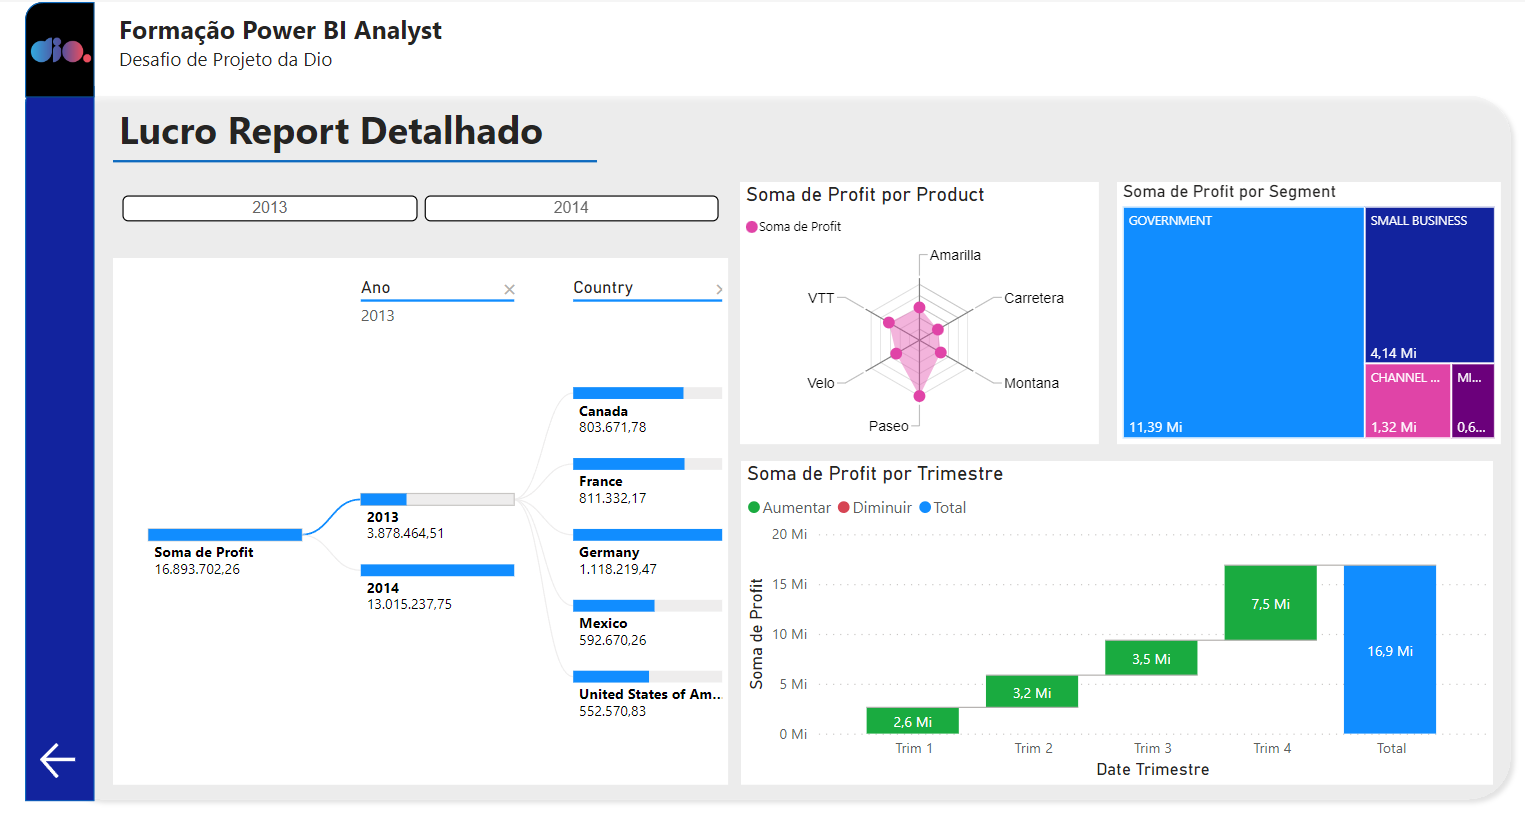

What the dashboard file says about the page in this screenshot:
{"tool":"powerbi","page":{"name":"Pagina 2","canvas":[1280,720],"ordinal":1},"visuals":[{"type":"textbox","box":[74.3,0,981.5,70.7],"z":0},{"type":"shape","box":[74.6,114.7,410.1,41.4],"z":0,"group":"g1"},{"type":"textbox","box":[74.6,80.5,579.1,54],"z":1000,"group":"g1"},{"type":"shape","box":[20.6,70.7,1246.6,614.5],"z":1000},{"type":"shape","box":[0,70.7,59.1,606.3],"z":2000},{"type":"shape","box":[0,0,59.1,80.6],"z":3000},{"type":"image","box":[0,9.9,60.9,60.9],"z":4000},{"type":"shape","box":[74.6,216.9,521.2,445.6],"z":5000},{"type":"shape","box":[606.6,152.1,301.3,221.8],"z":6000},{"type":"group","id":"g1","title":"Title Report","box":[74.6,80.5,579.1,75.6],"z":7000},{"type":"ChicletSlicer1448559807354","fields":{"Category":["financials.Date.Variation.Hierarquia de datas.Ano"],"Values":["CountNonNull(financials.Date.Variation.Hierarquia de datas.Ano)"]},"box":[74.6,156.1,521.2,46.1],"z":8000},{"type":"decompositionTreeVisual","fields":{"Analyze":["Sum(financials.Profit)"],"ExplainBy":["financials.Date.Variation.Hierarquia de datas.Ano","financials.Country"]},"box":[74.6,216.9,521.2,445.6],"z":9000},{"type":"shape","box":[924.7,152.1,324.9,221.8],"z":10000},{"type":"shape","box":[606.3,388.7,636.7,274],"z":11000},{"type":"RadarChart1446119667547","fields":{"Y":["Sum(financials.Profit)"],"Category":["financials.Product"]},"box":[605.6,152.1,304.3,221.8],"z":12000},{"type":"treemap","fields":{"Values":["Sum(financials.Profit)"],"Group":["financials.Segment"]},"box":[924.7,152.1,324.9,221.8],"z":13000},{"type":"waterfallChart","fields":{"Y":["Sum(financials.Profit)"],"Category":["financials.Date.Variation.Hierarquia de datas.Trimestre"]},"box":[606.6,388.7,637.1,273.9],"z":14000},{"type":"actionButton","box":[8.8,622.3,43.2,40.2],"z":15000}]}

Visuals, with their boxes on the page's 1280x720 design canvas (x1, y1, x2, y2). These are canvas units, not pixel positions in the 1525x817 screenshot, which may show the page scaled, cropped or inside an application window:
textbox: [left=74, top=0, right=1056, bottom=71]
shape: [left=75, top=115, right=485, bottom=156]
textbox: [left=75, top=80, right=654, bottom=134]
shape: [left=21, top=71, right=1267, bottom=685]
shape: [left=0, top=71, right=59, bottom=677]
shape: [left=0, top=0, right=59, bottom=81]
image: [left=0, top=10, right=61, bottom=71]
shape: [left=75, top=217, right=596, bottom=662]
shape: [left=607, top=152, right=908, bottom=374]
"Title Report" group: [left=75, top=80, right=654, bottom=156]
ChicletSlicer1448559807354 - financials.Date.Variation.Hierarquia de datas.Ano x CountNonNull(financials.Date.Variation.Hierarquia de datas.Ano): [left=75, top=156, right=596, bottom=202]
decompositionTreeVisual - Sum(financials.Profit) x financials.Date.Variation.Hierarquia de datas.Ano: [left=75, top=217, right=596, bottom=662]
shape: [left=925, top=152, right=1250, bottom=374]
shape: [left=606, top=389, right=1243, bottom=663]
RadarChart1446119667547 - Sum(financials.Profit) x financials.Product: [left=606, top=152, right=910, bottom=374]
treemap - Sum(financials.Profit) x financials.Segment: [left=925, top=152, right=1250, bottom=374]
waterfallChart - Sum(financials.Profit) x financials.Date.Variation.Hierarquia de datas.Trimestre: [left=607, top=389, right=1244, bottom=663]
actionButton: [left=9, top=622, right=52, bottom=662]
